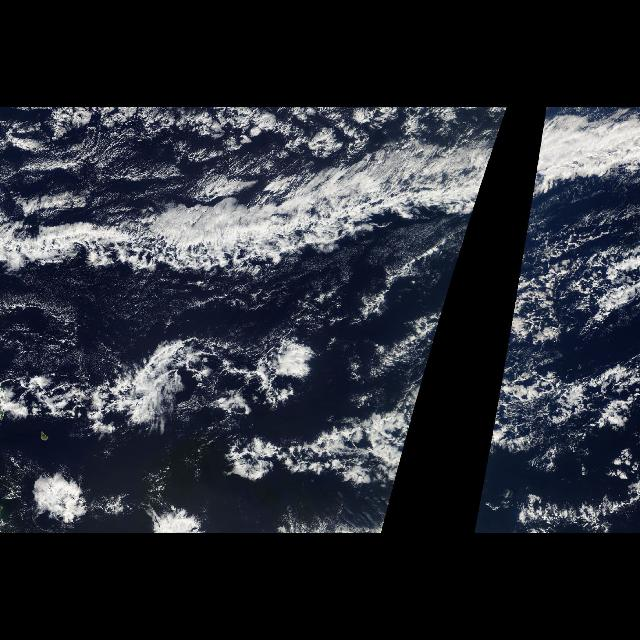Fish: (6, 146, 488, 284), (1, 333, 426, 481), (483, 369, 639, 481)
Gravel: (512, 215, 636, 348)
